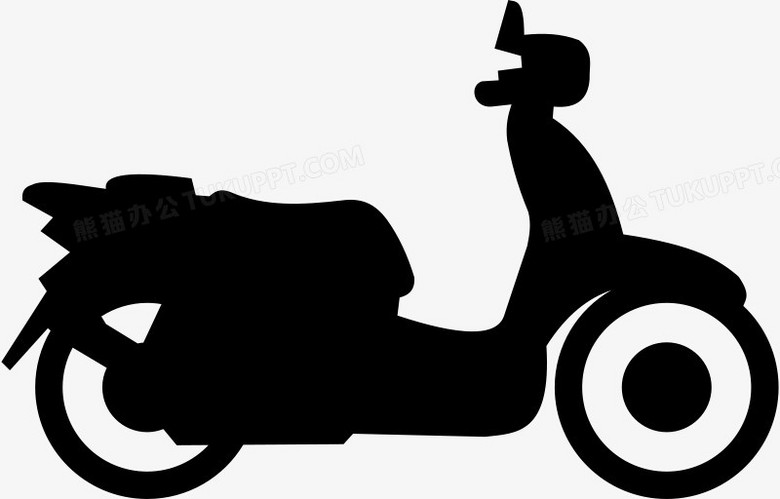MNV: (28, 3, 780, 499)
